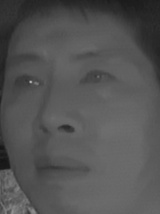eye: (77, 67, 124, 91), (10, 69, 48, 95)
mouth: (29, 145, 91, 187)
